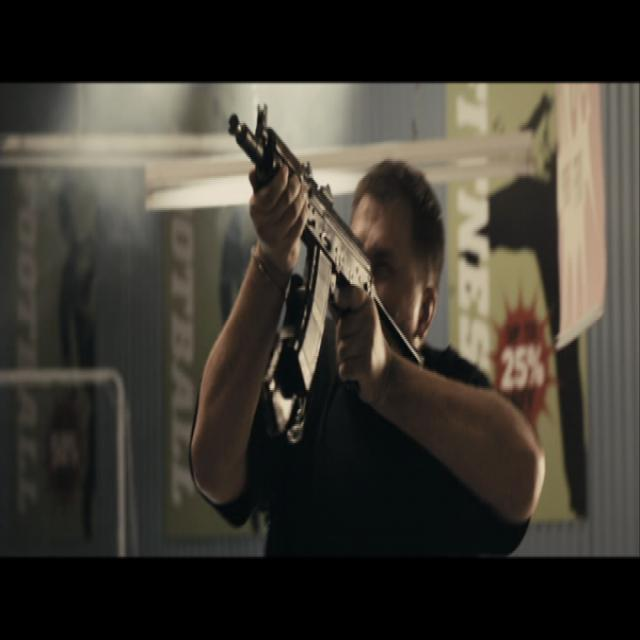rifle: (226, 100, 434, 417)
